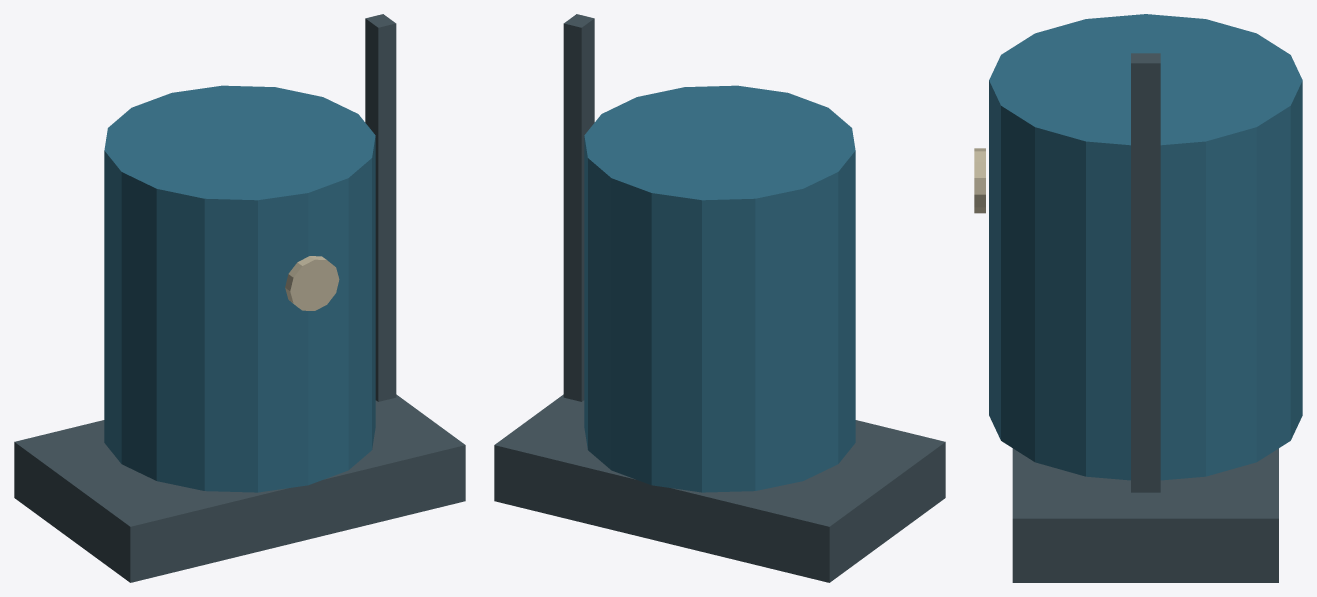
The model's file is boiler.glb.
3 renders of one model, left to right at view 1: azimuth 30°, elevation 25°; view 2: azimuth 150°, elevation 25°; view 3: azimuth 270°, elevation 25°, orthographic. The views are drawn at different scales.
Parts seen in each view (by area): view 1: boiler; view 2: boiler; view 3: boiler.
Boxes of the visible parts, x1,y1,x2,y2 form: boiler: [14, 14, 465, 582]; boiler: [494, 14, 945, 582]; boiler: [974, 14, 1302, 582].
Bounding box in the file's own units: 1.5 × 1.9 × 1.11.
